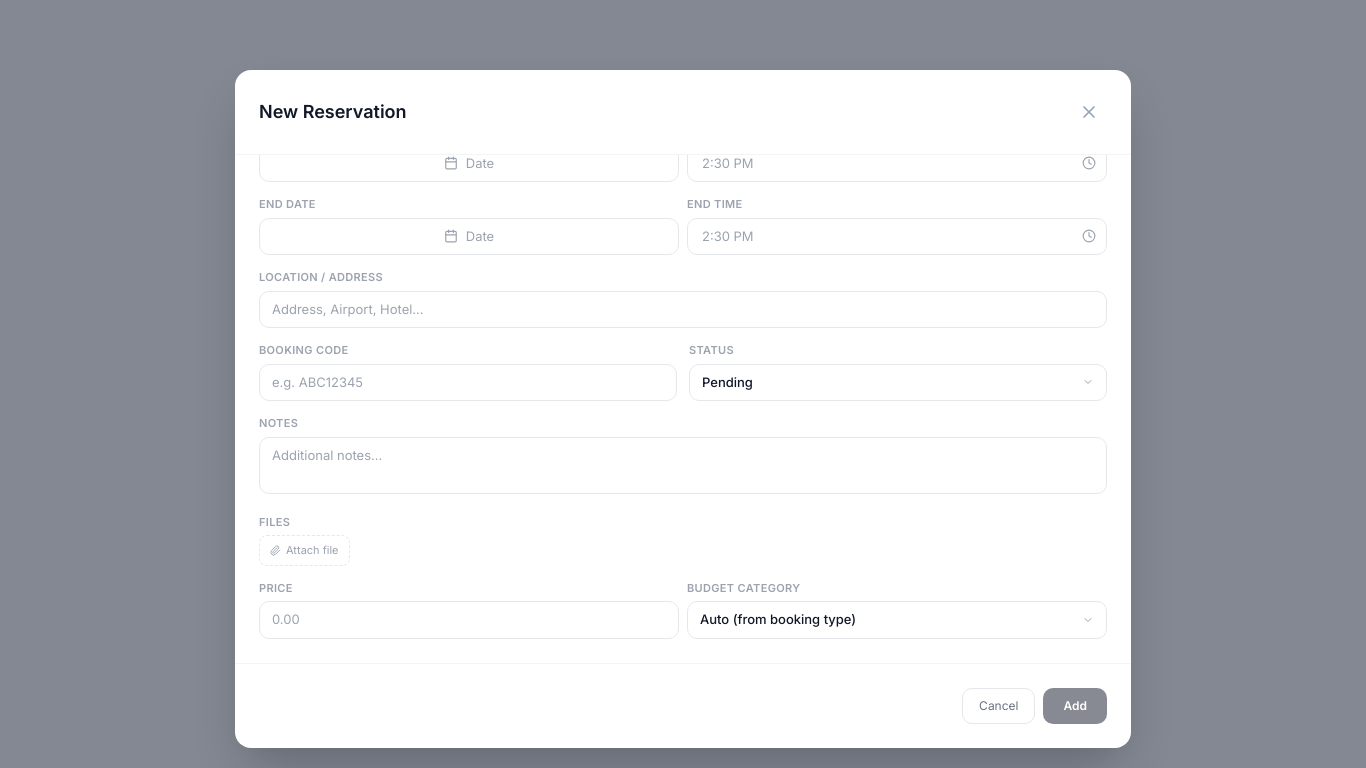
Test case: ReservationModal › FE-PLANNER-RESMODAL-026: budget hint shown when price > 0
(page scrolled)
In the field with placeholder "0.00": (469, 620) [259,601,679,638], type "50"
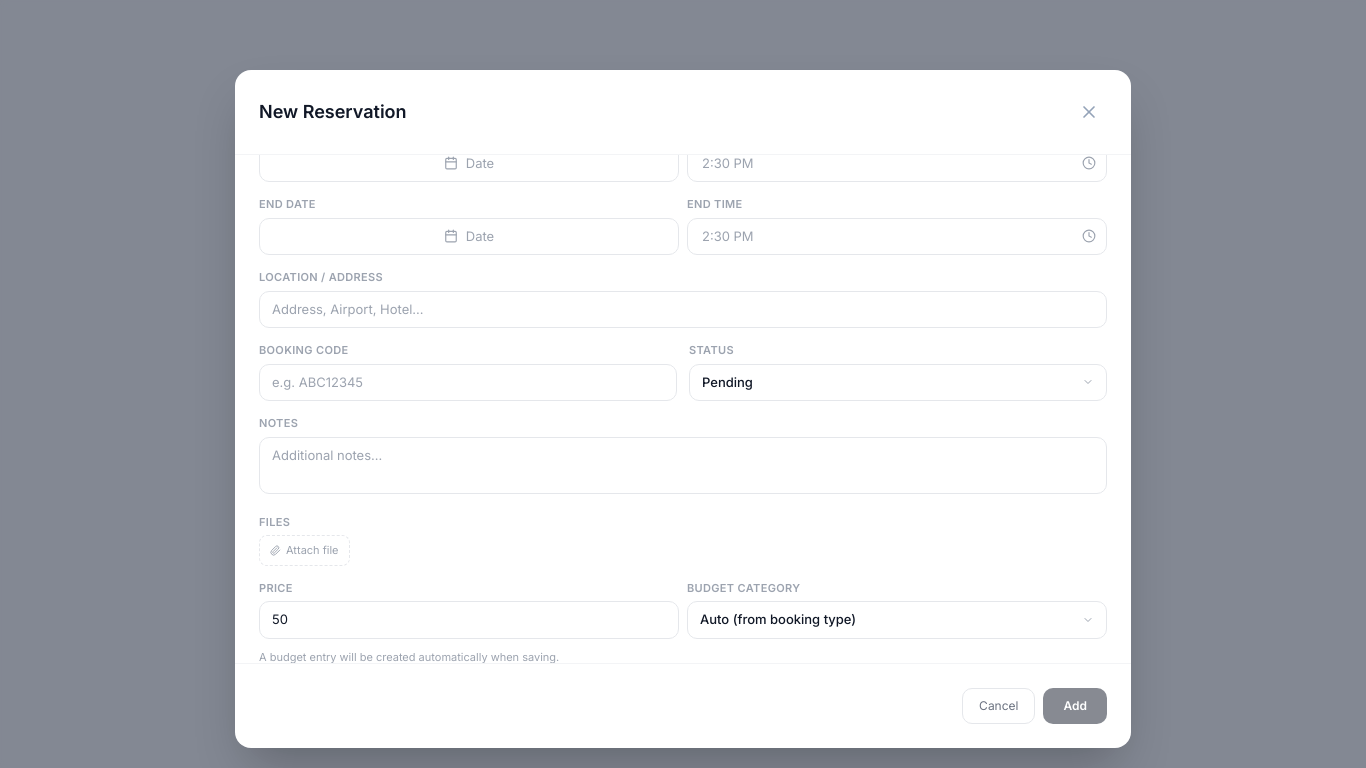
Expected: the text "A budget entry will be created automatically when saving." is shown, [259,650,559,663]
